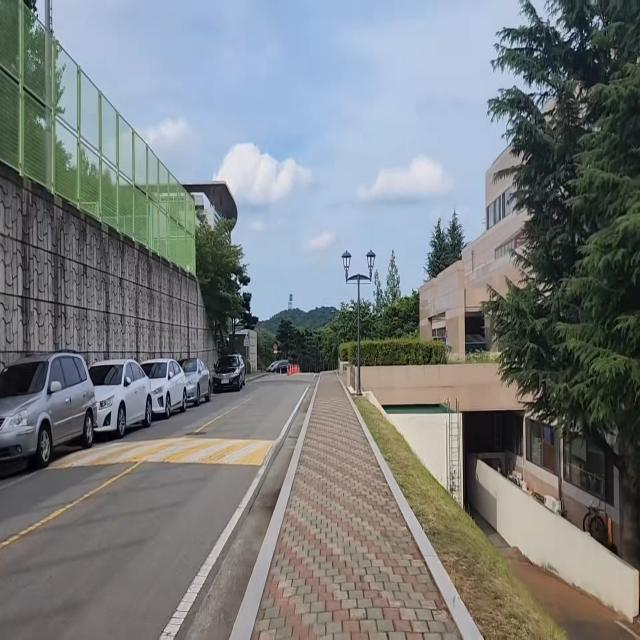obstacle: (0, 348, 101, 476), (85, 345, 157, 444), (140, 351, 216, 416)
sidewalk: (0, 378, 318, 637), (228, 370, 483, 640)
